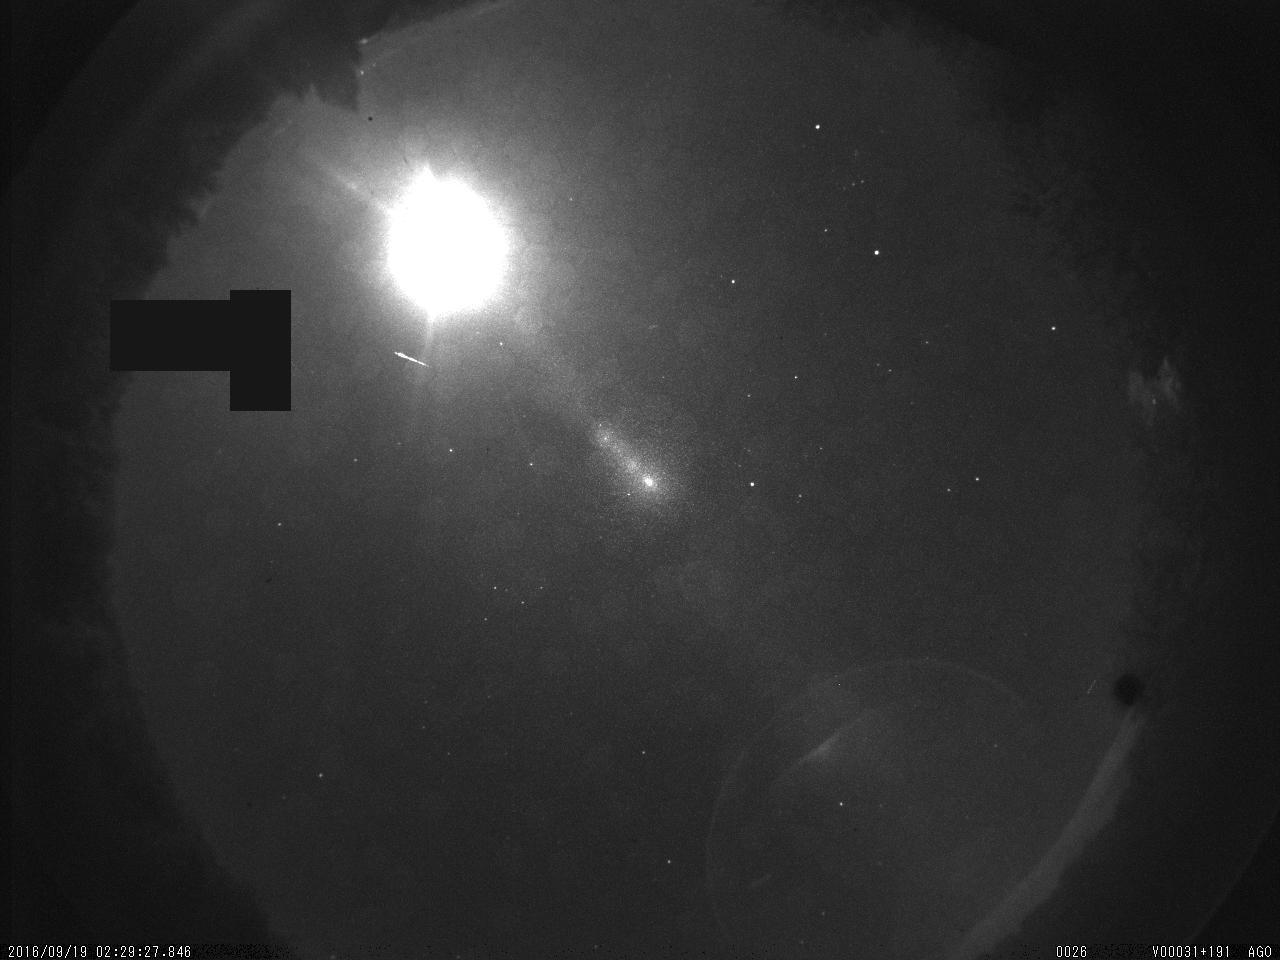meteor: (384, 339, 456, 385)
